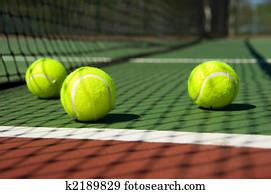tennis_ball: (59, 66, 117, 121), (187, 60, 239, 110), (25, 57, 69, 100)
